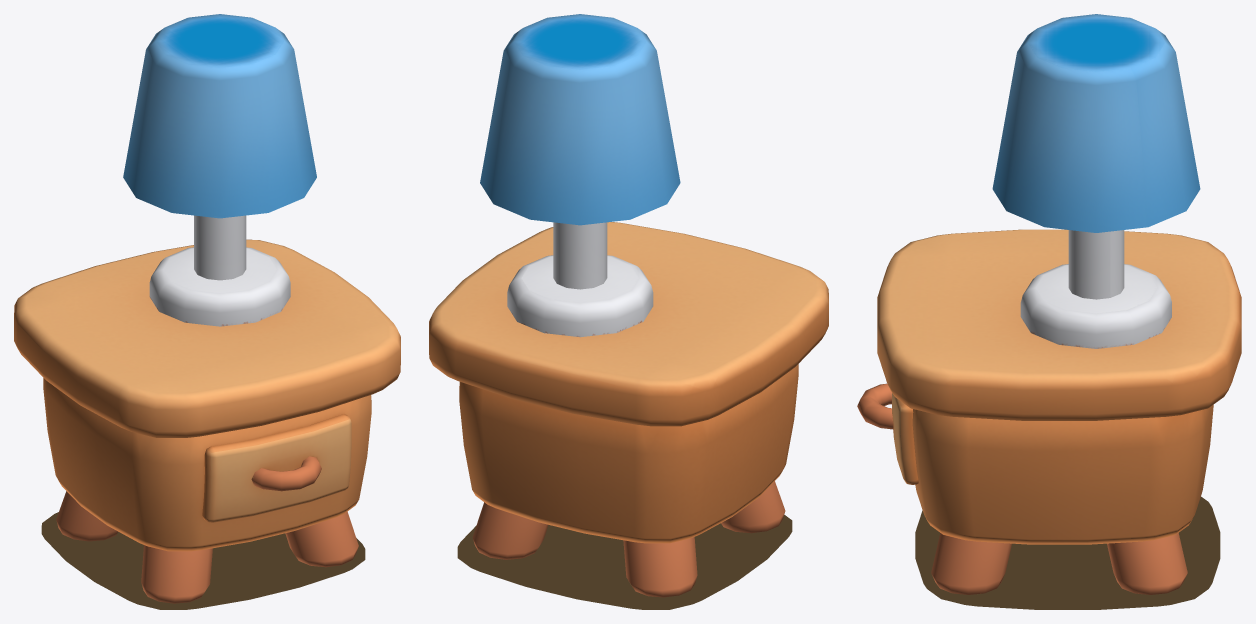
File: BesideTable01.fbx
The picture shows the model from 3 angles, left to right: view 1: azimuth 30°, elevation 25°; view 2: azimuth 150°, elevation 25°; view 3: azimuth 270°, elevation 25°; orthographic projection. The views are drawn at different scales.
Parts seen in each view (by area): view 1: BesideTable01; view 2: BesideTable01; view 3: BesideTable01.
Part boxes in pixels (left/top/right/bottom): BesideTable01: left=14, top=14, right=400, bottom=609; BesideTable01: left=429, top=14, right=828, bottom=609; BesideTable01: left=857, top=14, right=1241, bottom=609.
Size of the model in its own units: 92.99 by 146 by 98.09.
